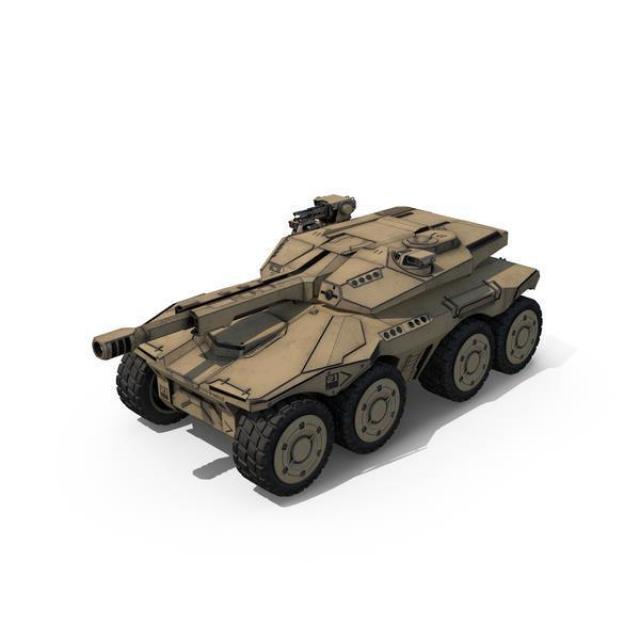Tanks: (71, 131, 551, 512)
